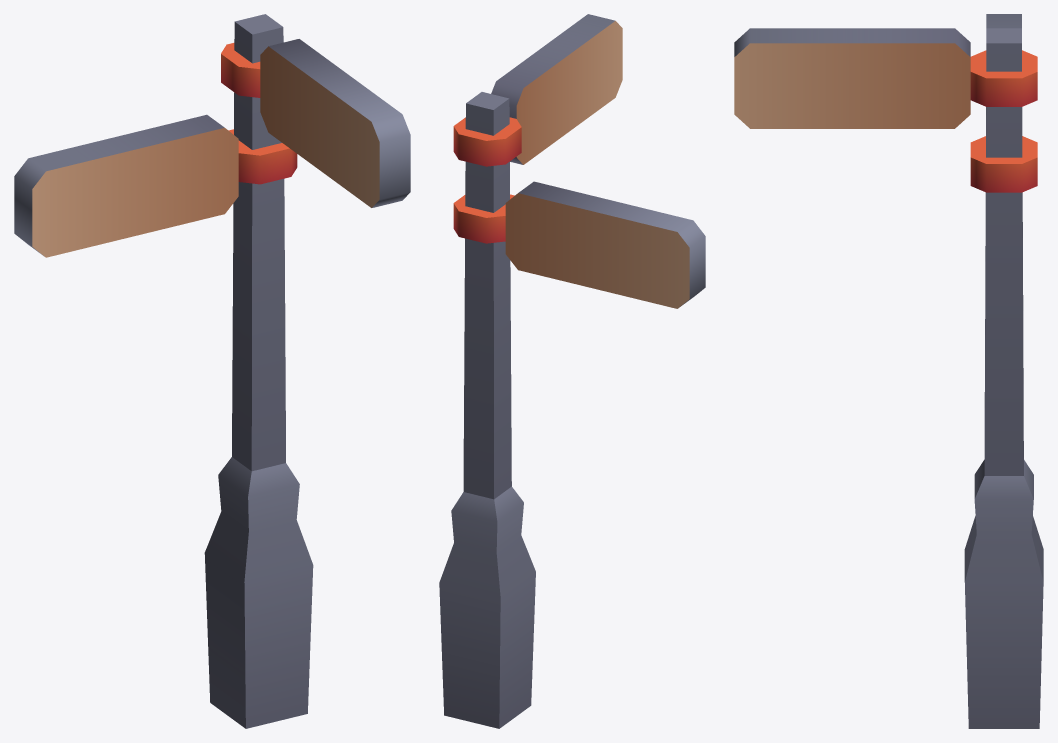
Rendered from rd-sign-street.glb.
3 views of the same model, side by side, from view 1: azimuth 30°, elevation 25°; view 2: azimuth 150°, elevation 25°; view 3: azimuth 270°, elevation 25° (orthographic). The views are drawn at different scales.
Parts seen in each view (by area): view 1: road-sign-street; view 2: road-sign-street; view 3: road-sign-street.
Part boxes in pixels (bbox=[...]): road-sign-street: bbox=[14, 14, 410, 728]; road-sign-street: bbox=[439, 14, 705, 728]; road-sign-street: bbox=[734, 14, 1043, 728].
Size of the model in its own units: 0.1963 by 0.475 by 0.1962.
1 material, 1 textured.
